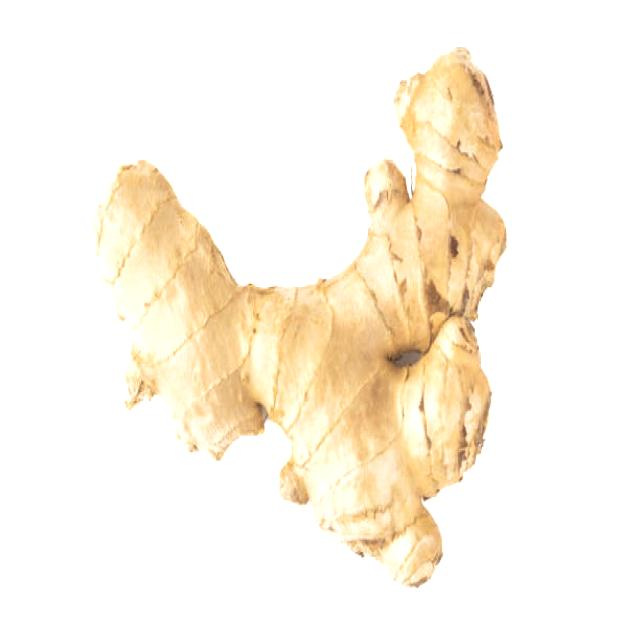ginger-root: (66, 46, 516, 594)
